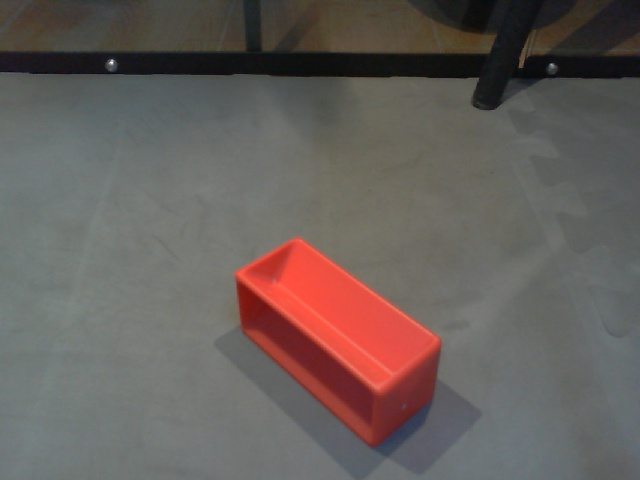RedSample: (234, 237, 442, 450)
